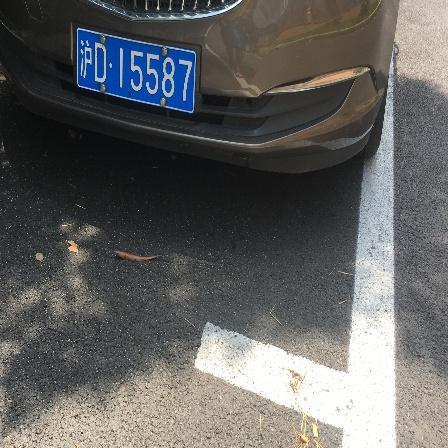plate: (75, 24, 199, 116)
